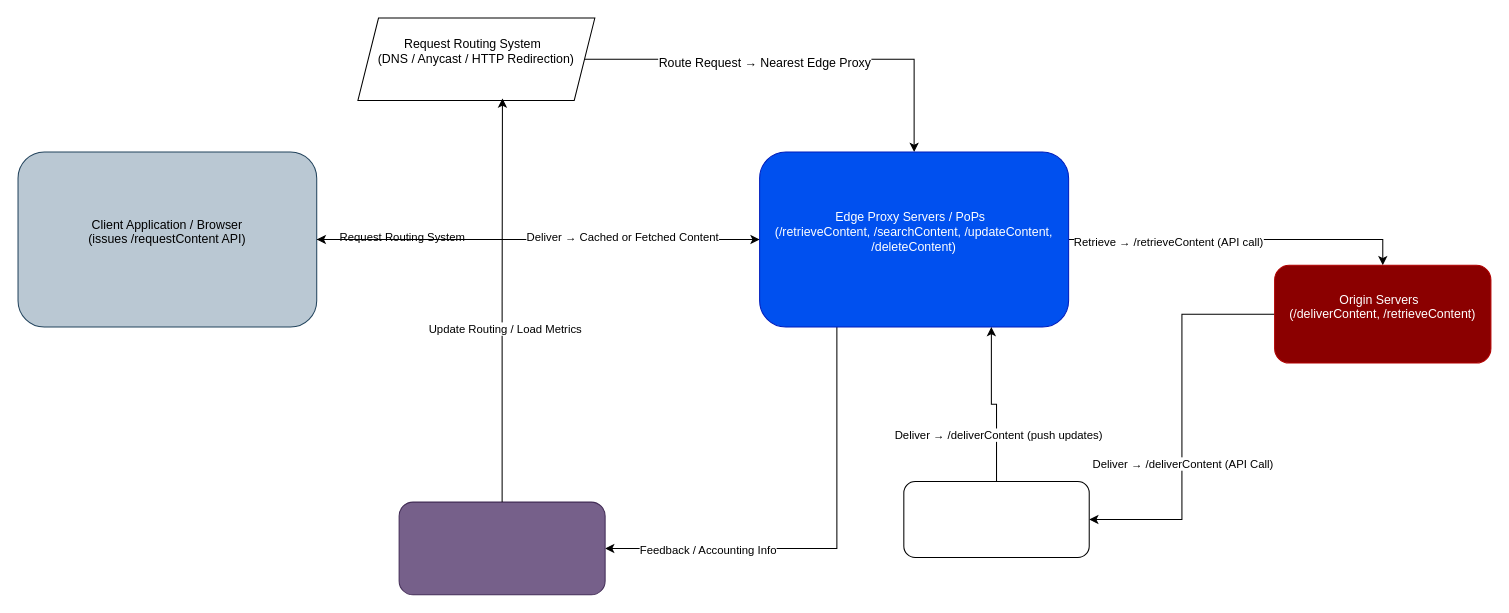
This 1509x613 diagram has some shape labels left out. Each missing label, with the box of its shape:
Distribution System (push content to PoPs): (903, 480, 1089, 558)
Management System (feedback, accounting, health reports): (398, 501, 605, 595)
